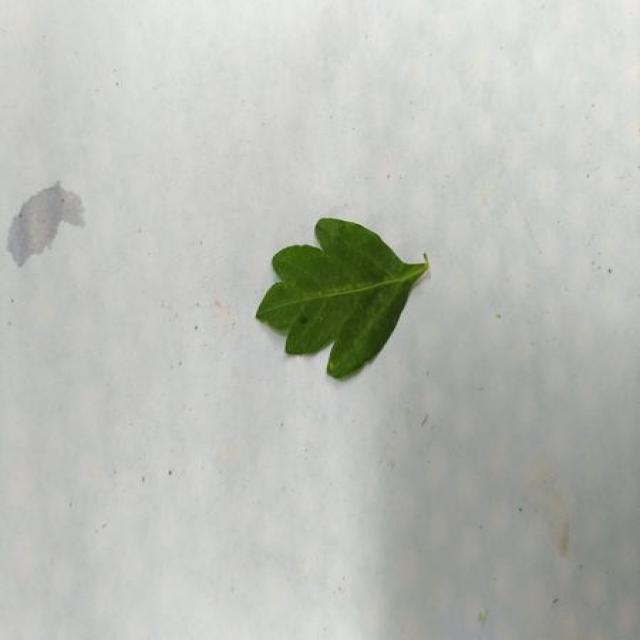balloon_Vine: (257, 219, 428, 378)
